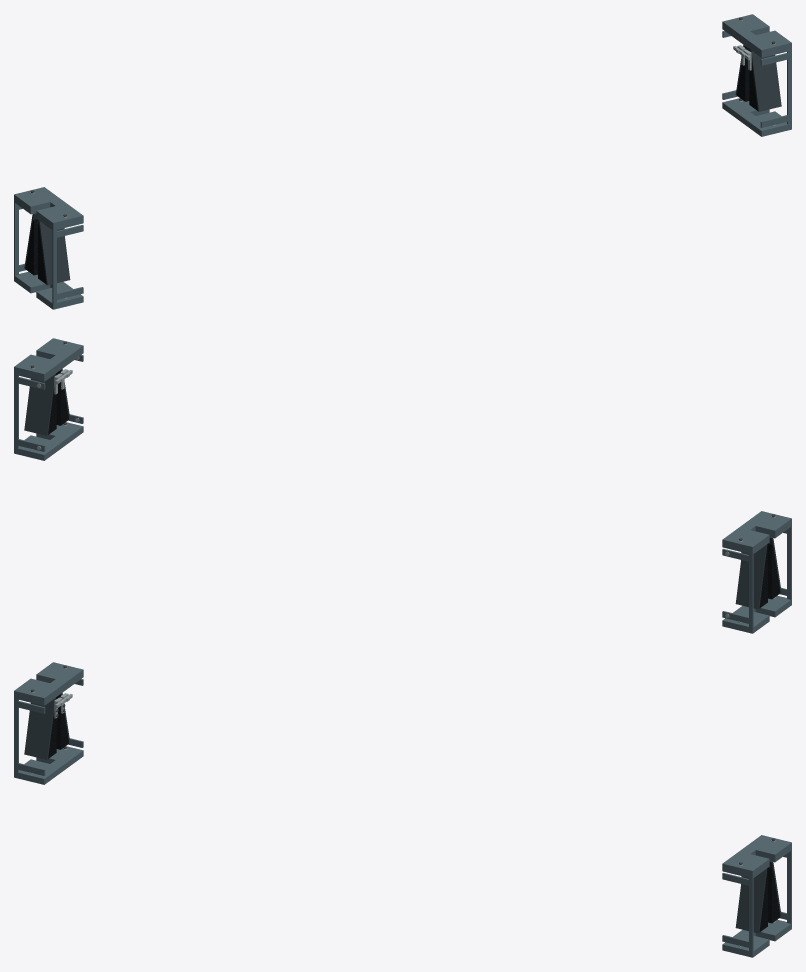
The model's file is safety_gear.glb.
3 views of the same model, one above another, from view 1: azimuth 30°, elevation 25°; view 2: azimuth 150°, elevation 25°; view 3: azimuth 330°, elevation 25° (orthographic).
Visible parts, largest first — view 1: safetySlottedCap (×6), wedgeGuideR1, wedgeGuideL1, safetyOpenHousingR, safetyOpenHousingL; view 2: safetySlottedCap (×6), wedgeGuideR0, wedgeGuideL0, safetyOpenHousingR, safetyOpenHousingL; view 3: safetySlottedCap (×6), wedgeGuideL1, wedgeGuideR1, safetyOpenHousingL, safetyOpenHousingR.
Part boxes in pixels (x1,y1,x2,y2): safetySlottedCap (×6): (14, 14, 791, 309); wedgeGuideR1: (750, 50, 781, 111); wedgeGuideL1: (38, 220, 70, 285); safetyOpenHousingR: (722, 17, 791, 127); safetyOpenHousingL: (14, 190, 83, 300); safetySlottedCap (×6): (14, 338, 791, 633); wedgeGuideR0: (24, 374, 55, 435); wedgeGuideL0: (735, 544, 767, 609); safetyOpenHousingR: (14, 341, 83, 451); safetyOpenHousingL: (722, 514, 791, 623); safetySlottedCap (×6): (14, 662, 791, 957); wedgeGuideL1: (24, 698, 55, 759); wedgeGuideR1: (735, 868, 767, 933); safetyOpenHousingL: (15, 665, 83, 775); safetyOpenHousingR: (722, 838, 791, 948).
Bounding box in the file's own units: 2.61 × 0.3 × 0.242.
